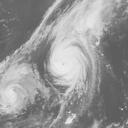cyclone: (47, 36, 100, 89), (2, 61, 34, 116)
